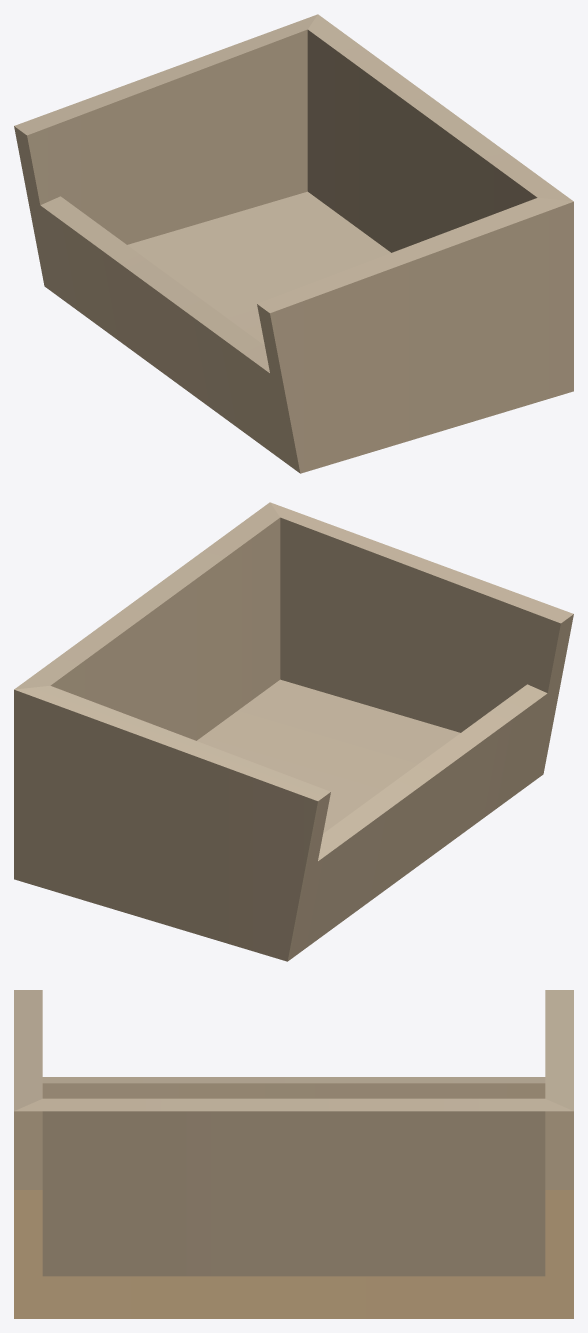
File: WallStandPlatform_Short.fbx
The picture shows the model from 3 angles, top to bottom: view 1: azimuth 30°, elevation 25°; view 2: azimuth 150°, elevation 25°; view 3: azimuth 270°, elevation 25°; orthographic projection. The views are drawn at different scales.
Parts seen in each view (by area): view 1: WallStandPlatform_Short; view 2: WallStandPlatform_Short; view 3: WallStandPlatform_Short.
Part boxes in pixels (bbox=[...]): WallStandPlatform_Short: bbox=[14, 14, 573, 473]; WallStandPlatform_Short: bbox=[14, 502, 573, 961]; WallStandPlatform_Short: bbox=[14, 990, 573, 1318].
Bounding box in the file's own units: 35.87 × 23.15 × 52.29.
